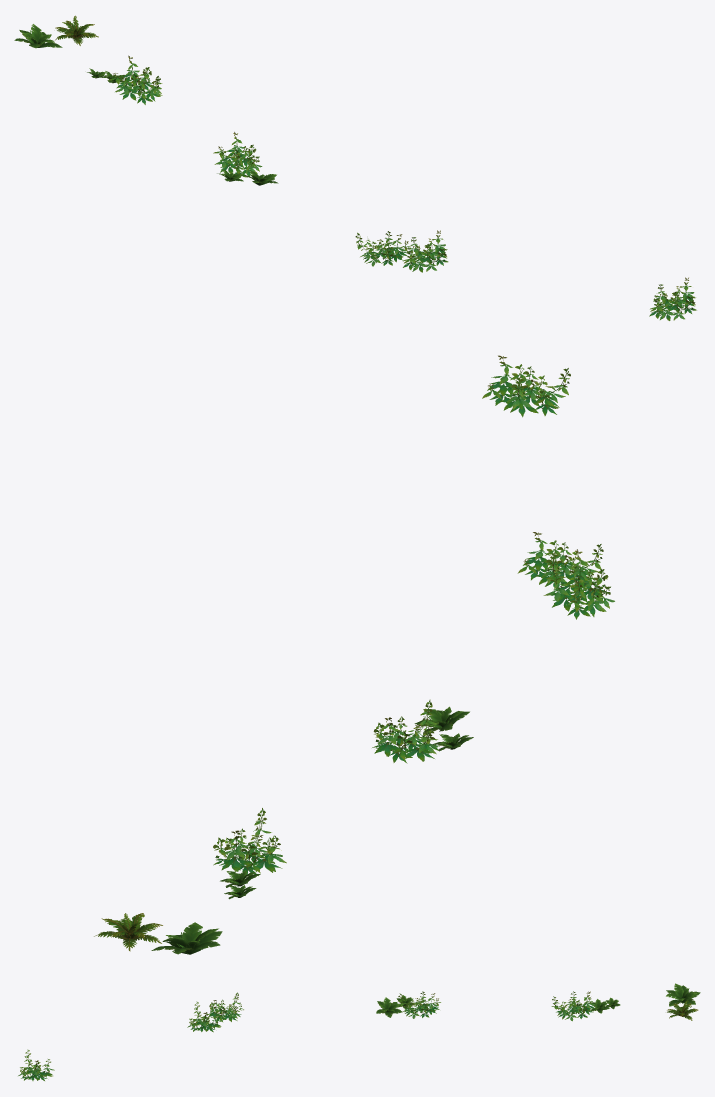
The model's file is zhibei18_1.fbx.
3 renders of one model, top to bottom at view 1: azimuth 30°, elevation 25°; view 2: azimuth 150°, elevation 25°; view 3: azimuth 270°, elevation 25°, orthographic. The views are drawn at different scales.
Parts seen in each view (by area): view 1: zhibei18_1; view 2: zhibei18_1; view 3: zhibei18_1.
Boxes of the visible parts, <box> form: zhibei18_1: <box>14,15,696,320</box>; zhibei18_1: <box>94,355,614,954</box>; zhibei18_1: <box>18,983,700,1080</box>.
Bounding box in the file's own units: 1376 × 183 × 4322.
